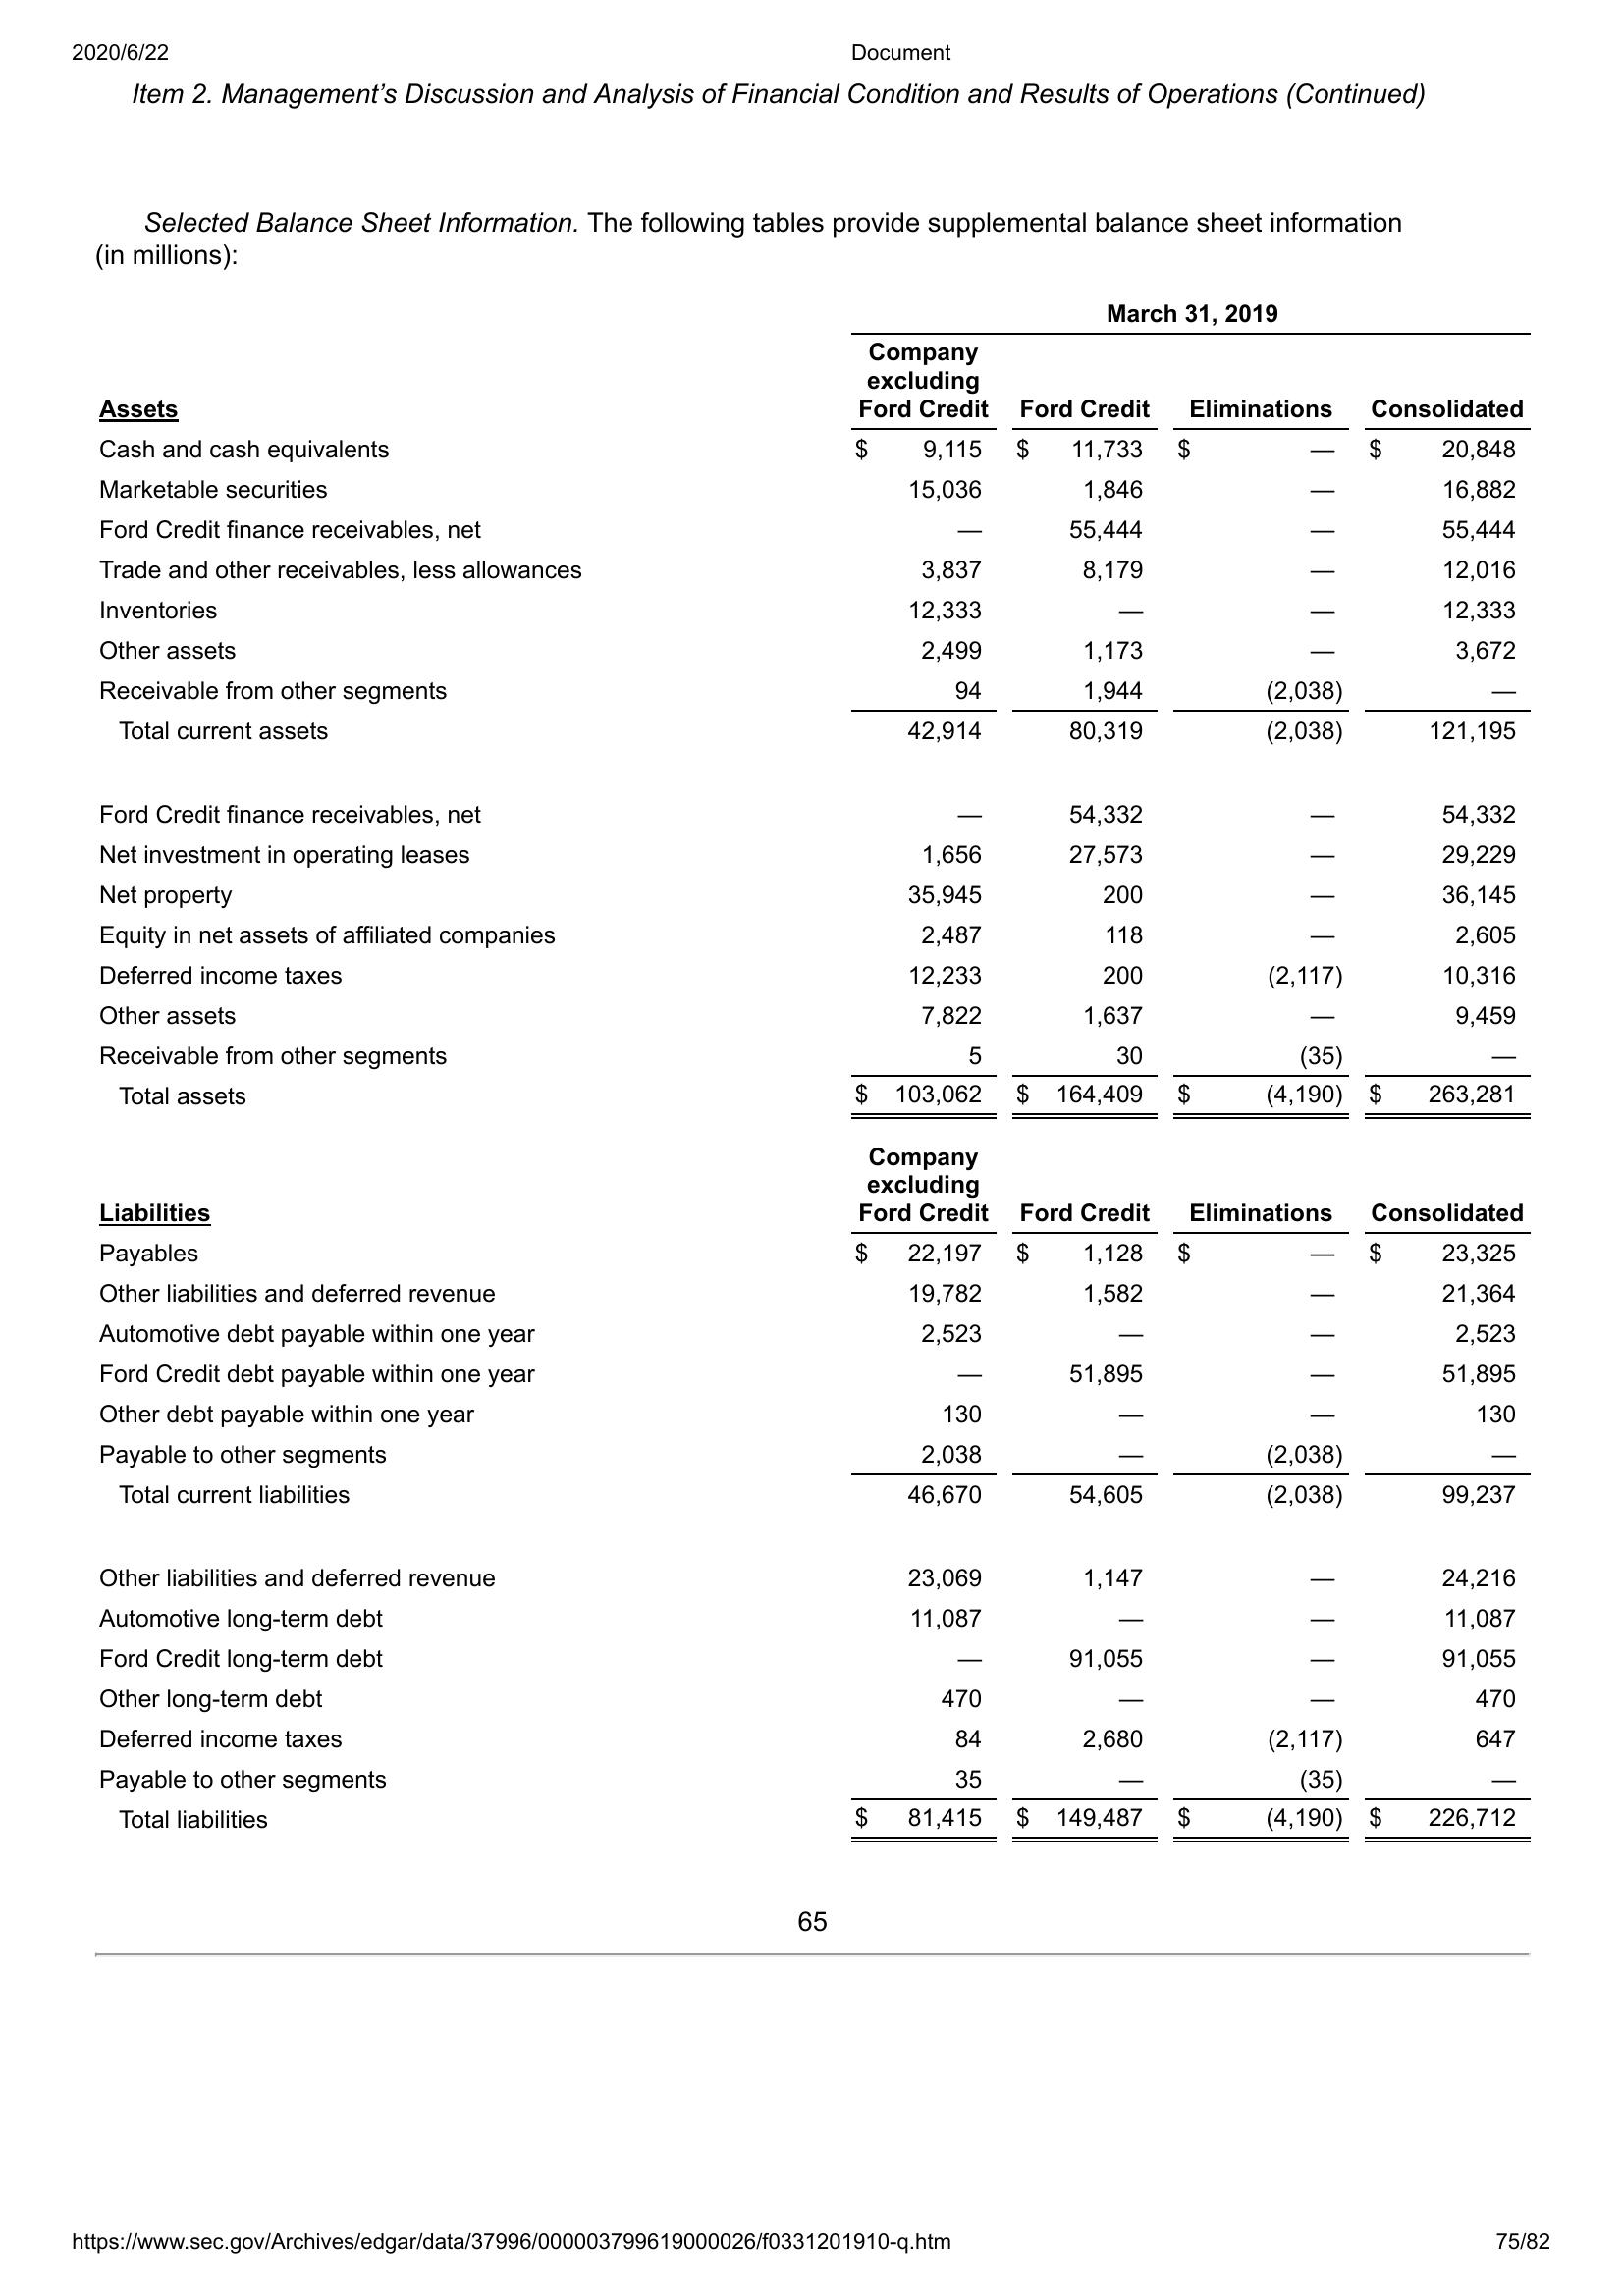table: (91, 300, 1539, 1123), (91, 1141, 1539, 1850)
